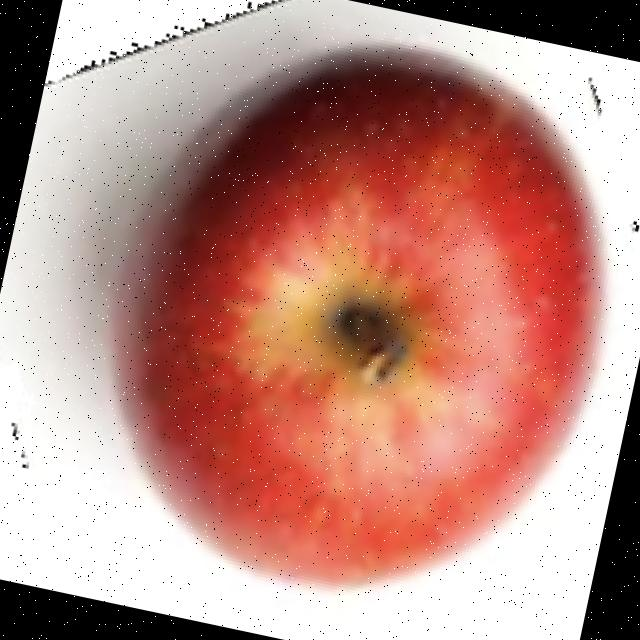apple: (36, 0, 617, 599)
